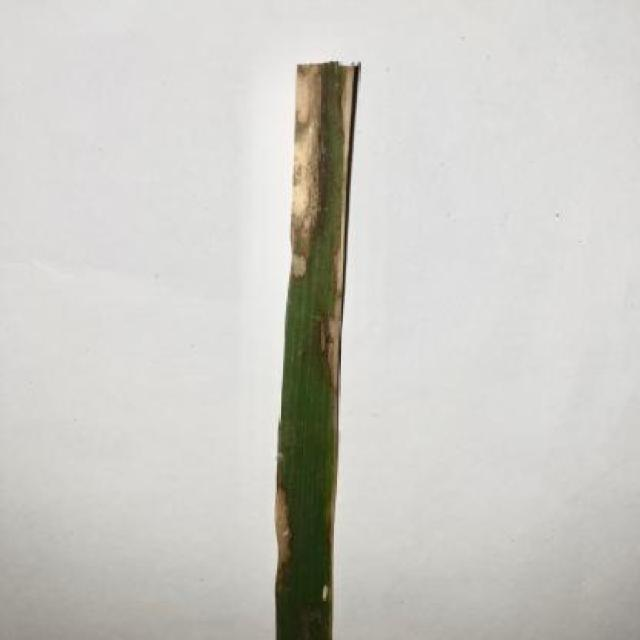Brown_Spot: (267, 46, 362, 640)
